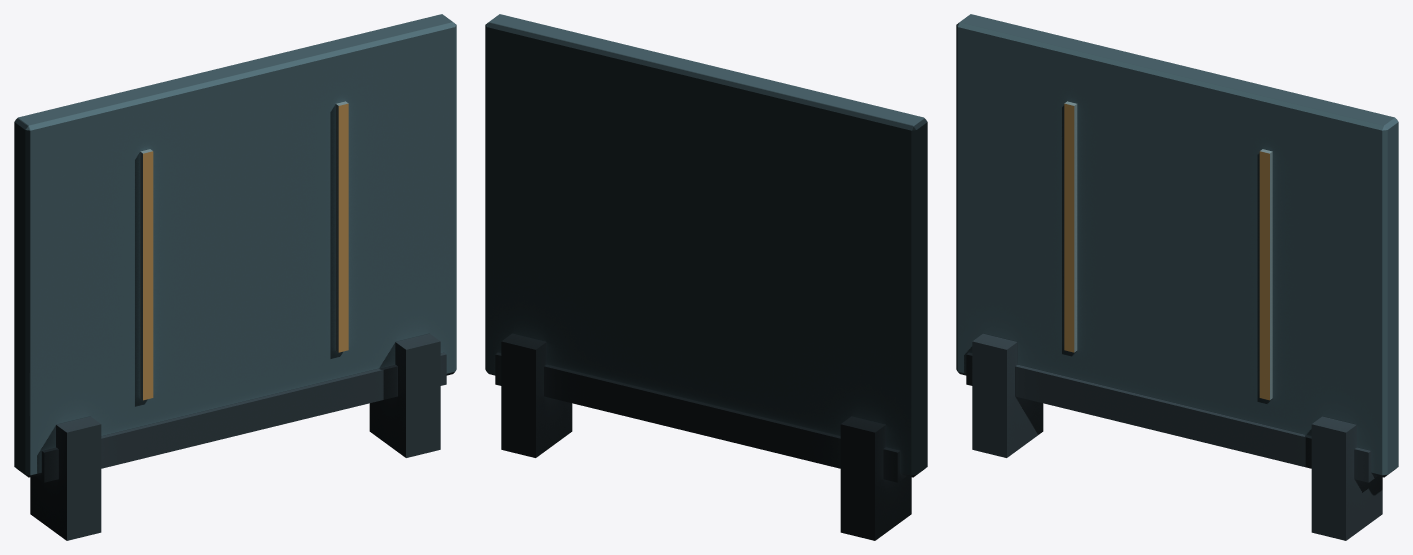
File: 0-20261016-1900-ev038-r07-floor4-cubicledivider_baked.glb
The picture shows the model from 3 angles, left to right: view 1: azimuth 30°, elevation 25°; view 2: azimuth 150°, elevation 25°; view 3: azimuth 330°, elevation 25°; orthographic projection.
Visible parts, largest first — view 1: SW_Callcenter_CubicleDivider; view 2: SW_Callcenter_CubicleDivider; view 3: SW_Callcenter_CubicleDivider.
Part boxes in pixels (x1=…): SW_Callcenter_CubicleDivider: x1=14, y1=14, x2=456, y2=540; SW_Callcenter_CubicleDivider: x1=485, y1=14, x2=927, y2=540; SW_Callcenter_CubicleDivider: x1=956, y1=14, x2=1398, y2=540.
Size of the model in its own units: 1.5 by 1.37 by 0.22.
Materials: 1 (1 with a texture image).
